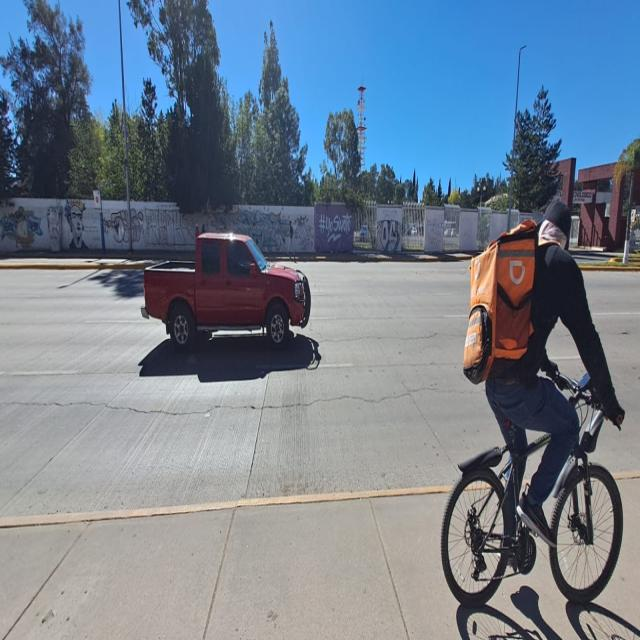Auto: (138, 224, 310, 357)
